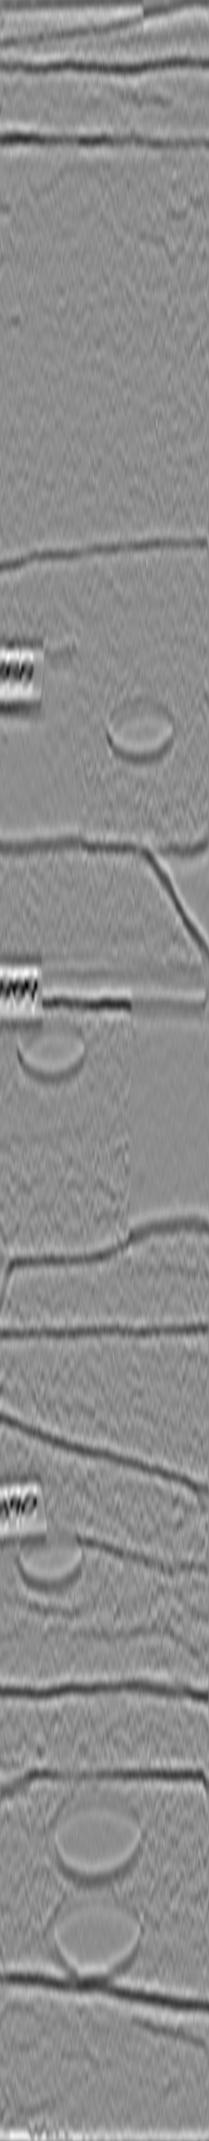hplug: (8, 1013, 97, 1087), (102, 687, 182, 769), (8, 1520, 92, 1598)
scal: (41, 1888, 158, 1994), (42, 1782, 154, 1888)
vplug: (119, 991, 209, 1247), (19, 640, 97, 857), (111, 1548, 204, 1690)
